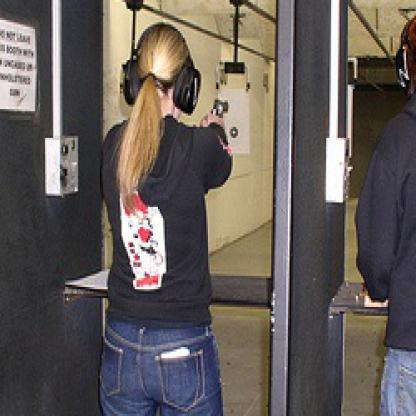gun: (206, 95, 229, 125)
